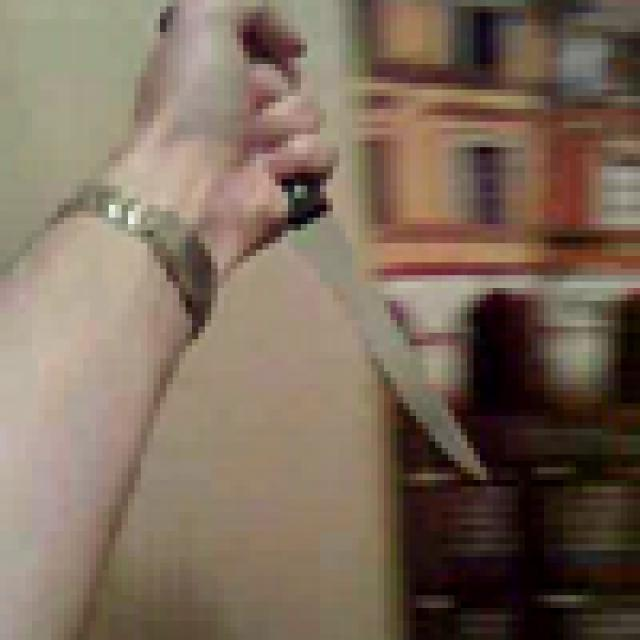knife: (161, 6, 506, 480)
